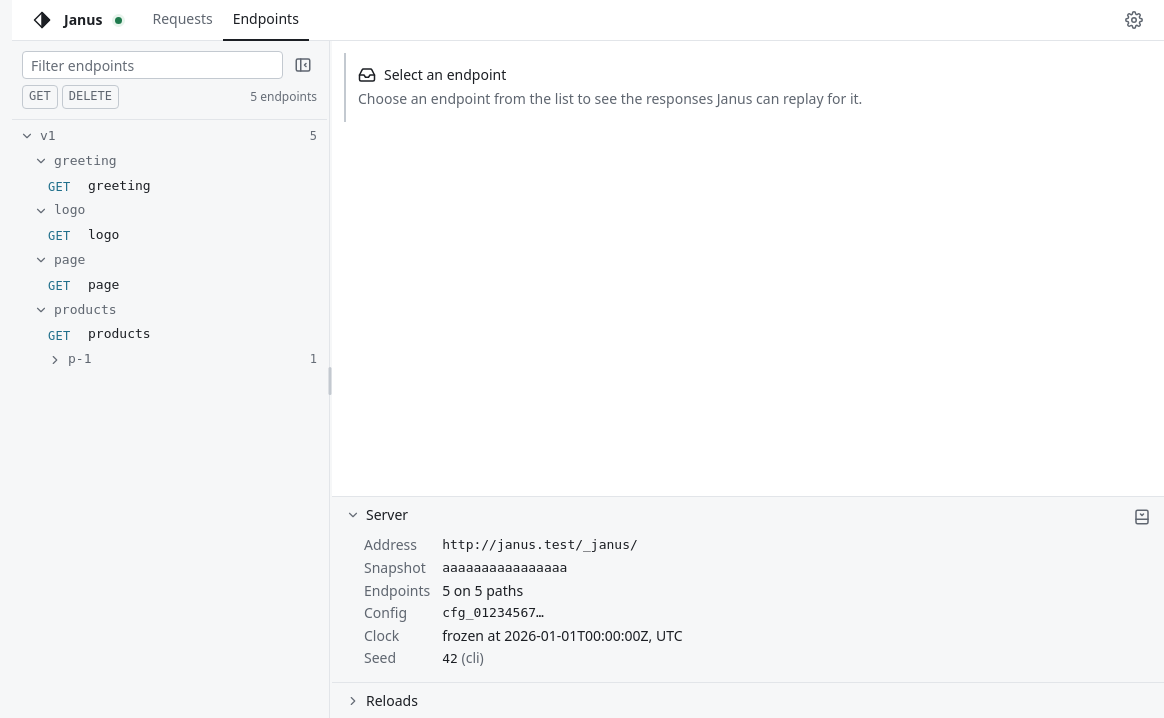
Test: App › navigates from the inventory to an endpoint and a localized response
Click the link with aria-label "GET /v1/greeting, scenario default" at (99, 186), box [48,178,151,194]
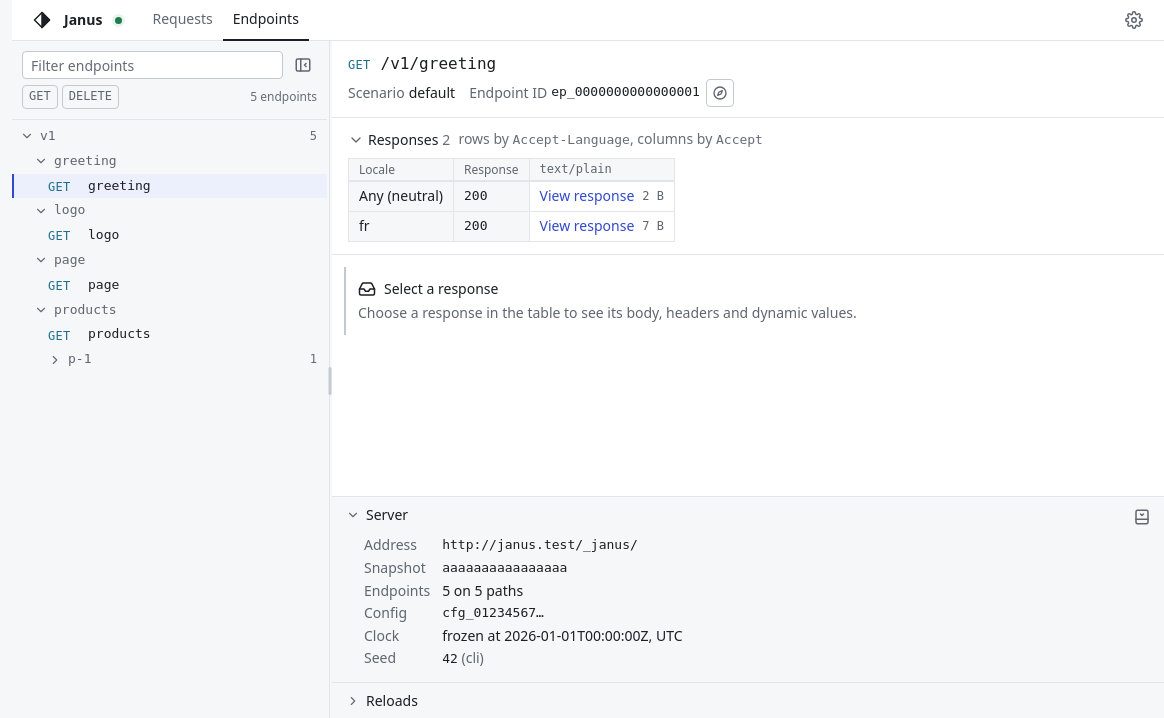
Now the heading "GET /v1/greeting" is shown, box [348,54,496,73]
Now the rows read "LocaleResponsetext/plain", "Any (neutral)200View response 2 B", "fr200View response 7 B", in this order, box [348,158,674,181]; [348,182,674,212]; [348,212,674,241]
Click the link with aria-label "View response 200 (fr)" at (602, 226), box [530,212,674,240]
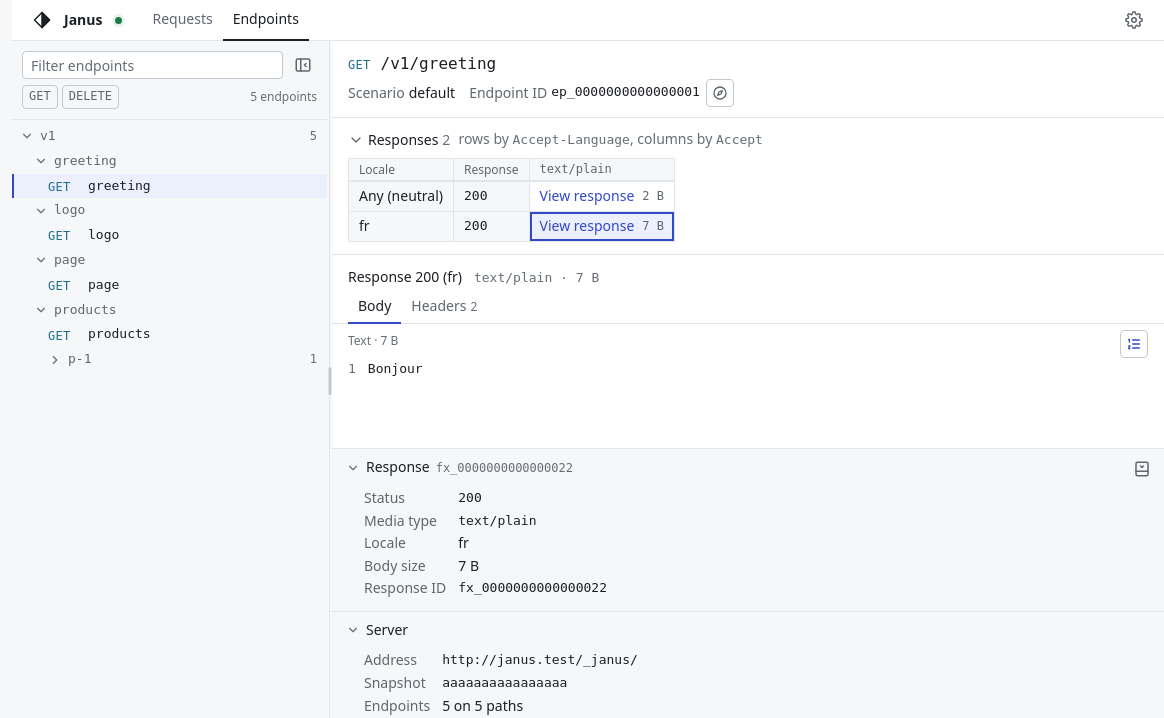
Now the heading "Response 200 (fr)" is shown, box [348,267,462,287]
